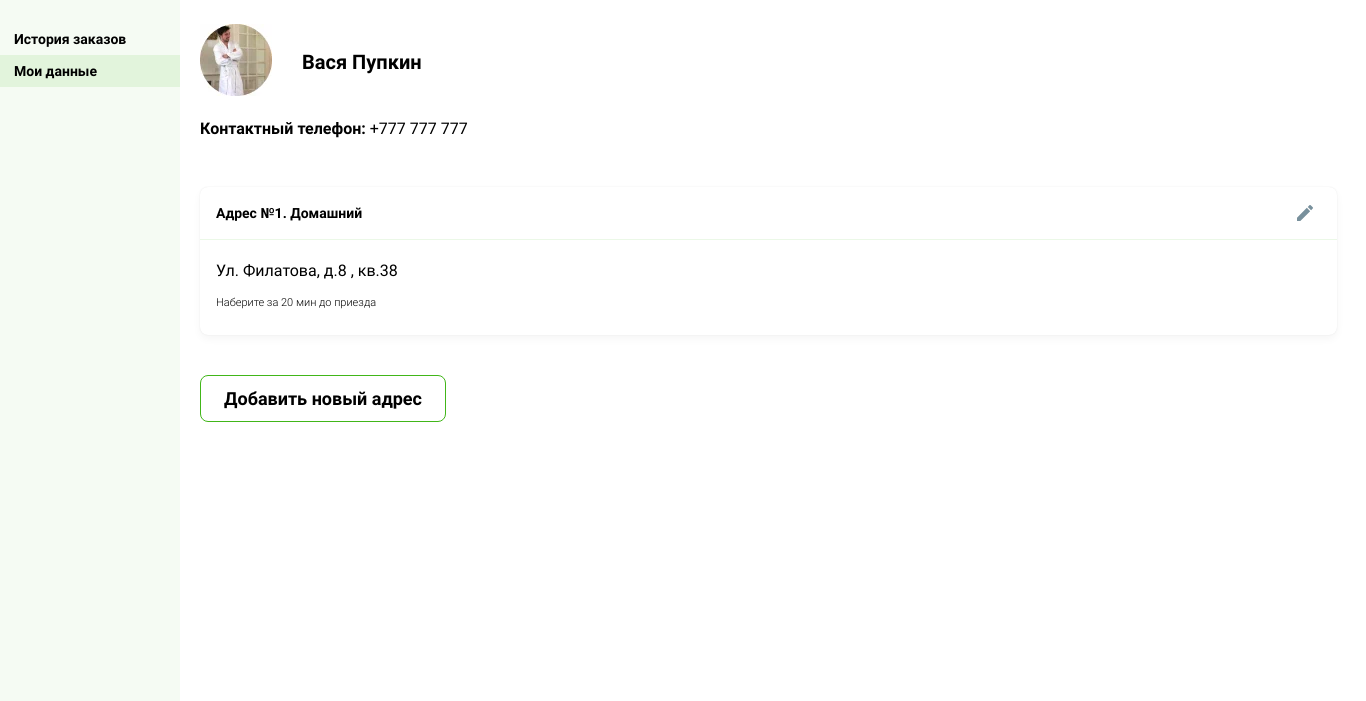
Test: Profile › should be show new address form when click button 'add-address'
Click the button with test id "add-address" at {"x": 323, "y": 398}, box 200,375 -> 446,422
(page scrolled)
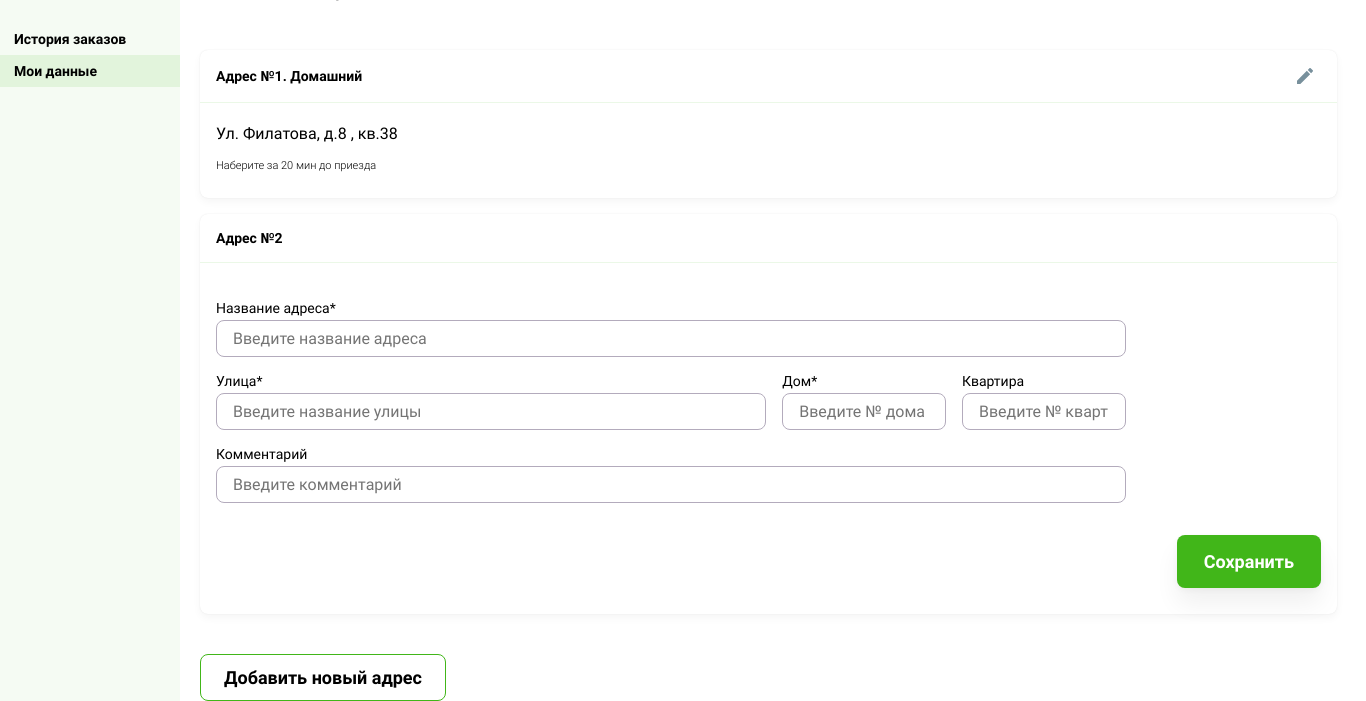
Expected: the element with test id "new-address-form" is shown, 200,214 -> 1337,614
